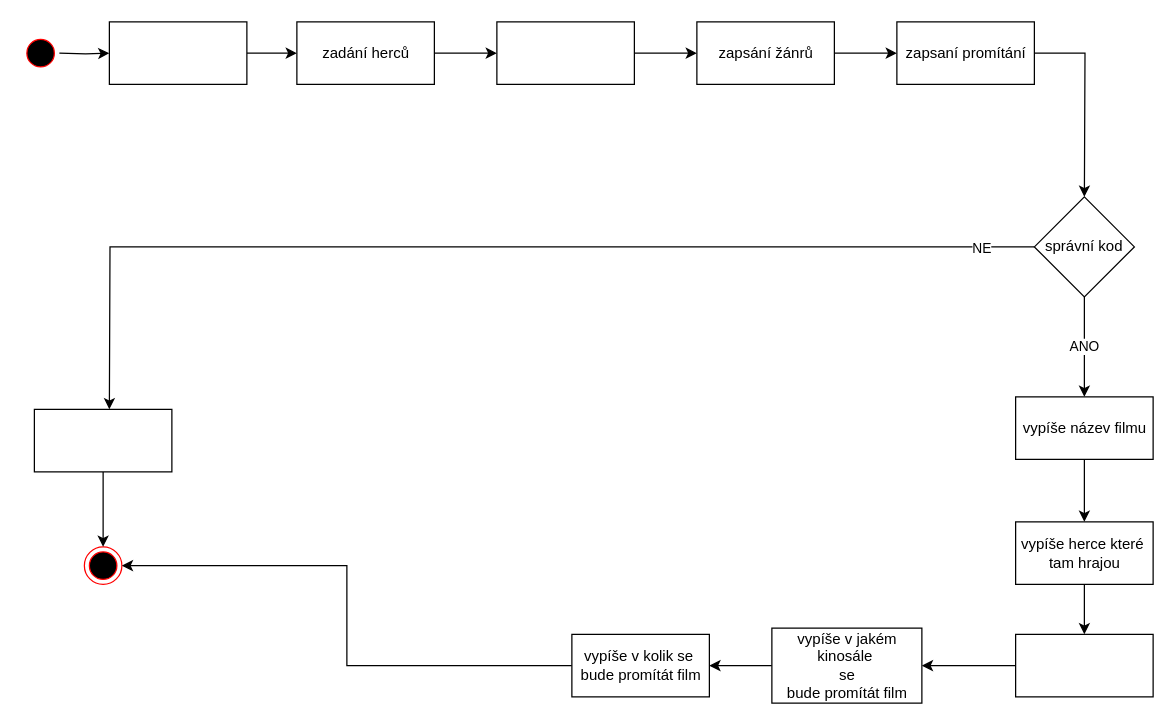
Some shapes in this 1175 by 725 pixel diagram are drawn without their labels. The centre of each missing label's shape, as x and y in pixels:
"ERROR" goes at (x=102, y=440).
"vypíše název žánrů" goes at (x=1083, y=665).
"zadání filmu" goes at (x=177, y=52).
"zadání kinosálů" goes at (x=565, y=52).
